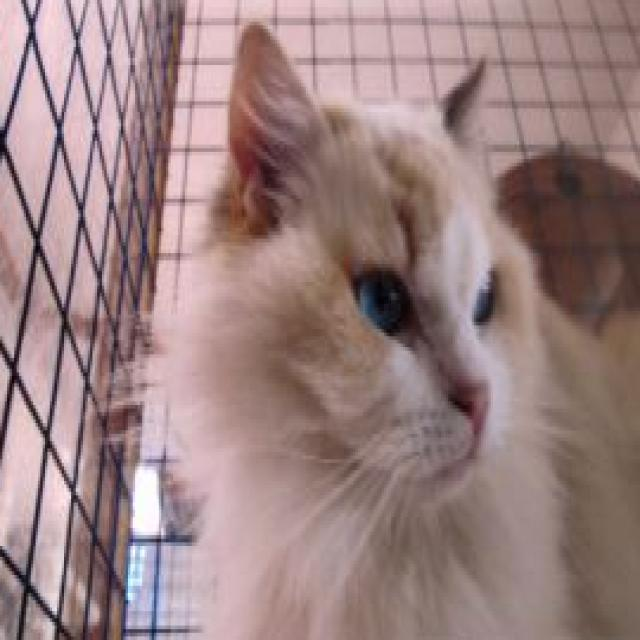Ragdoll: (142, 14, 640, 640)
